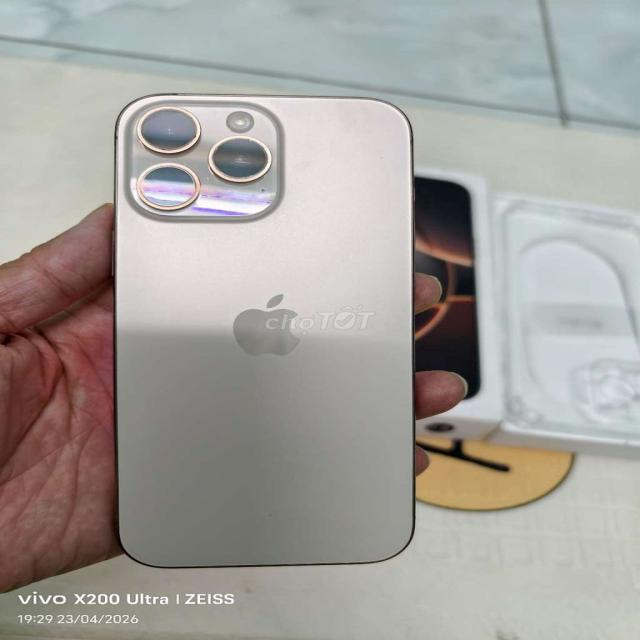scratch: (195, 172, 226, 195)
